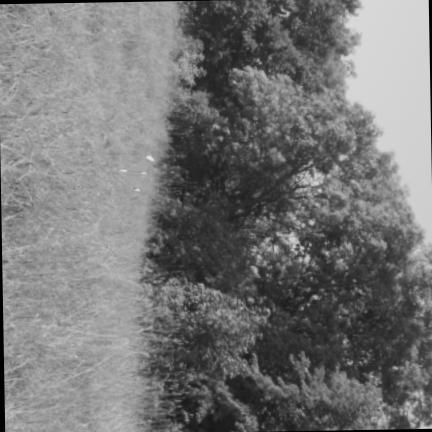Shahed: (117, 155, 154, 190)
